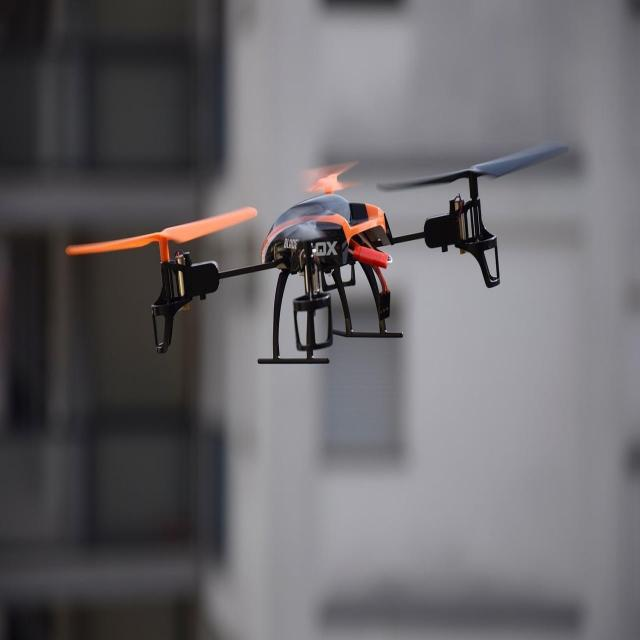drone: (149, 160, 503, 367)
